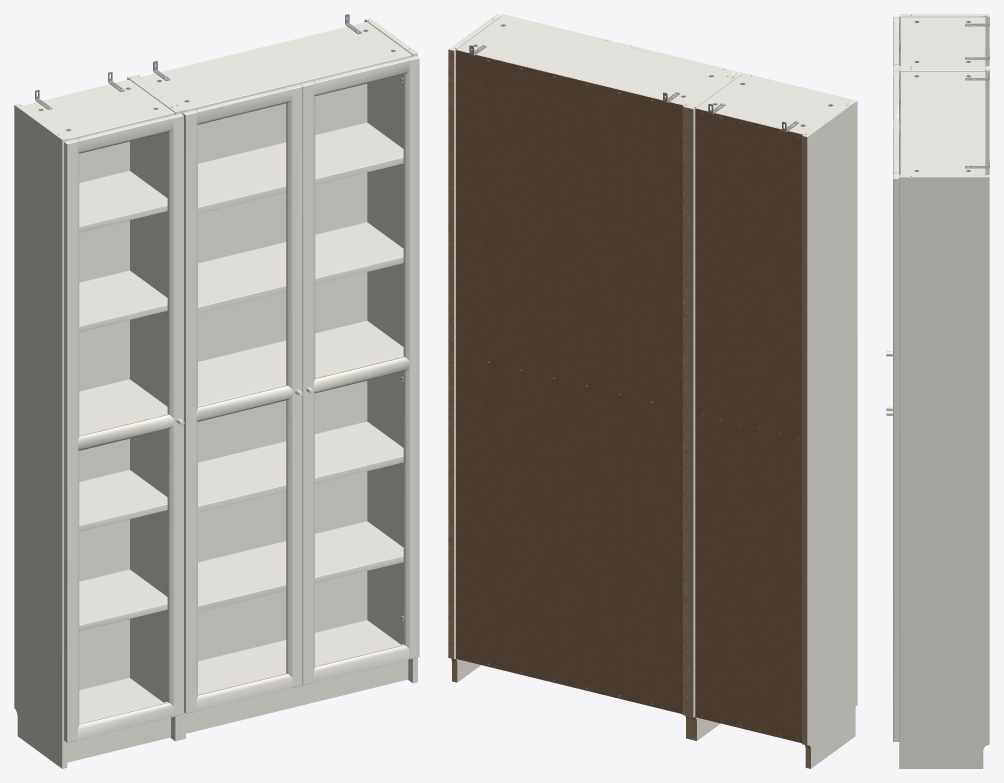
File: billy_oxberg_witryna_69281804.glb
3 renders of one model, left to right at view 1: azimuth 30°, elevation 25°; view 2: azimuth 150°, elevation 25°; view 3: azimuth 270°, elevation 25°, orthographic. The views are drawn at different scales.
Parts seen in each view (by area): view 1: billy_oxberg_witryna_69281804; view 2: billy_oxberg_witryna_69281804; view 3: billy_oxberg_witryna_69281804.
Part boxes in pixels (x1,y1,x2,y2): billy_oxberg_witryna_69281804: (14,14,419,768); billy_oxberg_witryna_69281804: (448,14,857,768); billy_oxberg_witryna_69281804: (886,14,989,768).
Size of the model in its own units: 1.2 by 2.05 by 0.3202.
2 materials, 1 textured.
